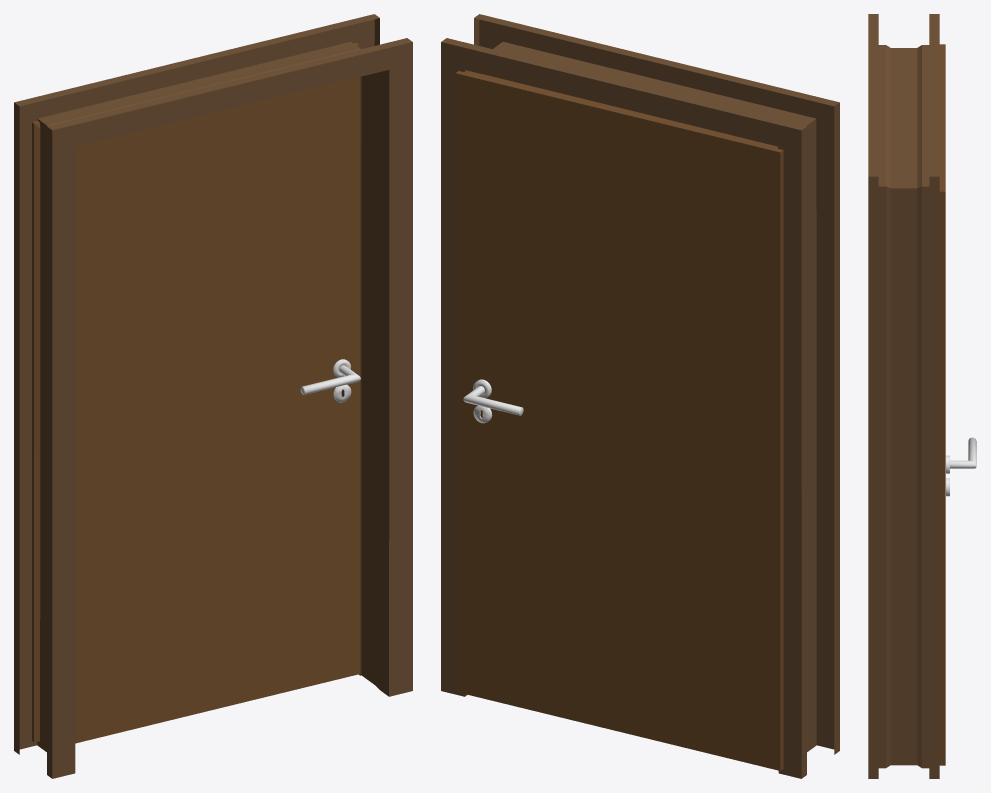
Rendered from Door.fbx.
3 views of the same model, side by side, from view 1: azimuth 30°, elevation 25°; view 2: azimuth 150°, elevation 25°; view 3: azimuth 270°, elevation 25° (orthographic). The views are drawn at different scales.
Visible parts, largest first — view 1: Door, Doorframe; view 2: Door, Doorframe; view 3: Doorframe, Door, Handle.
Boxes of the visible parts, bbox=[...] form: Door: bbox=[32, 43, 360, 743]; Doorframe: bbox=[14, 14, 412, 778]; Door: bbox=[455, 70, 783, 770]; Doorframe: bbox=[441, 14, 839, 778]; Doorframe: bbox=[868, 14, 939, 778]; Door: bbox=[939, 44, 945, 765]; Handle: bbox=[950, 437, 976, 468].
Bounding box in the file's own units: 122 × 210 × 34.12.
